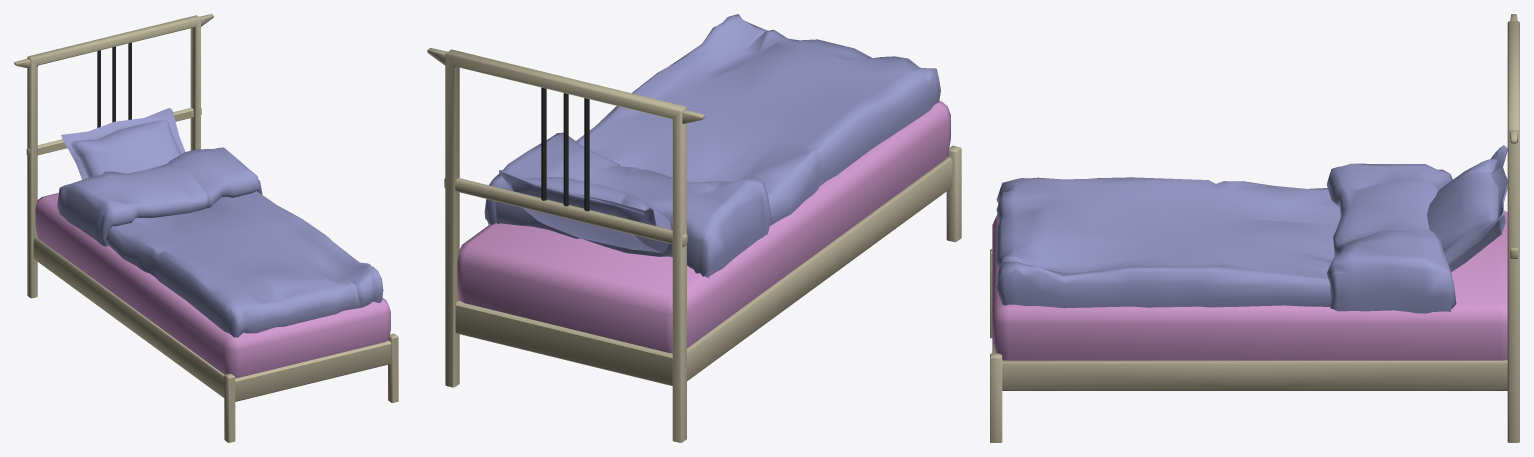
The model's file is IKEABD02.FBX.
3 renders of one model, left to right at view 1: azimuth 30°, elevation 25°; view 2: azimuth 150°, elevation 25°; view 3: azimuth 270°, elevation 25°, orthographic. The views are drawn at different scales.
Visible parts, largest first — view 1: IKEABD02; view 2: IKEABD02; view 3: IKEABD02.
Boxes of the visible parts, x1,y1,x2,y2 form: IKEABD02: [14, 14, 398, 442]; IKEABD02: [427, 14, 961, 442]; IKEABD02: [990, 14, 1519, 442].
Size of the model in its own units: 113 by 199 by 130.
